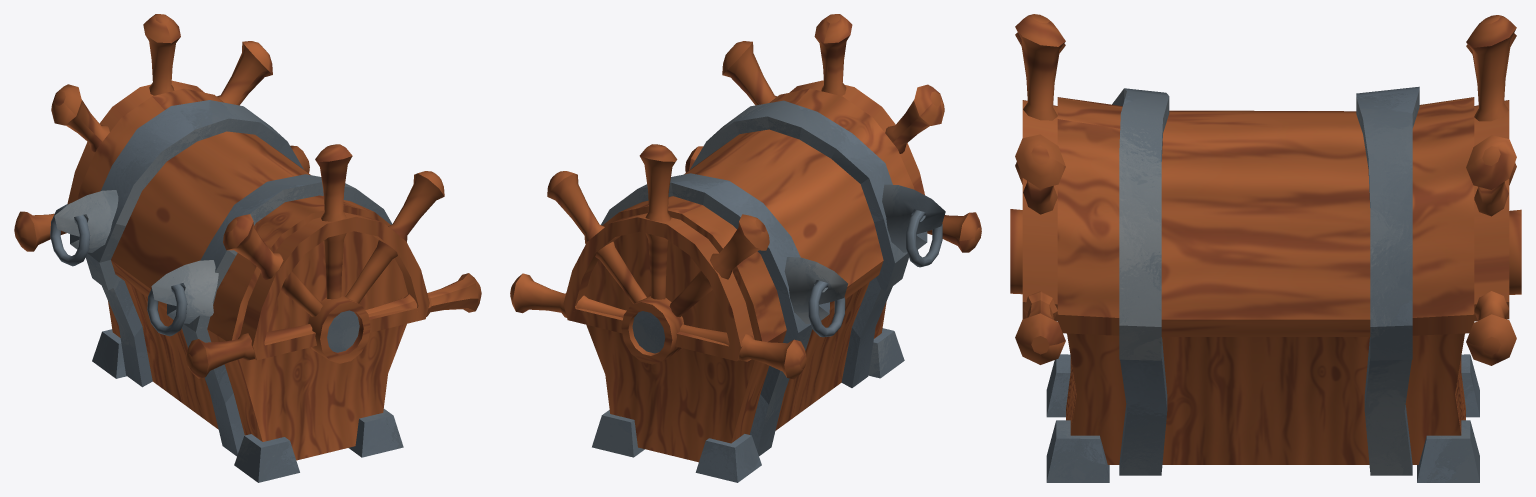
File: SM_Chest 1.fbx
3 renders of one model, left to right at view 1: azimuth 30°, elevation 25°; view 2: azimuth 150°, elevation 25°; view 3: azimuth 270°, elevation 25°, orthographic. The views are drawn at different scales.
Parts seen in each view (by area): view 1: SM_Chest; view 2: SM_Chest; view 3: SM_Chest.
Part boxes in pixels (box(x1,y1,x2,y2)): SM_Chest: box(14, 14, 481, 482); SM_Chest: box(510, 14, 981, 482); SM_Chest: box(1010, 14, 1521, 482).
Bounding box in the file's own units: 80.55 × 85.01 × 93.51.
